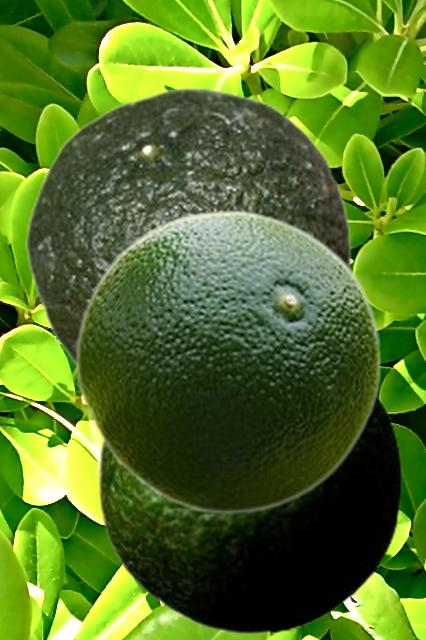calamansi: (74, 209, 382, 513), (25, 87, 351, 367), (97, 395, 401, 634)
